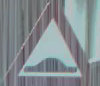Speed Breaker ahead: (10, 6, 87, 76)
